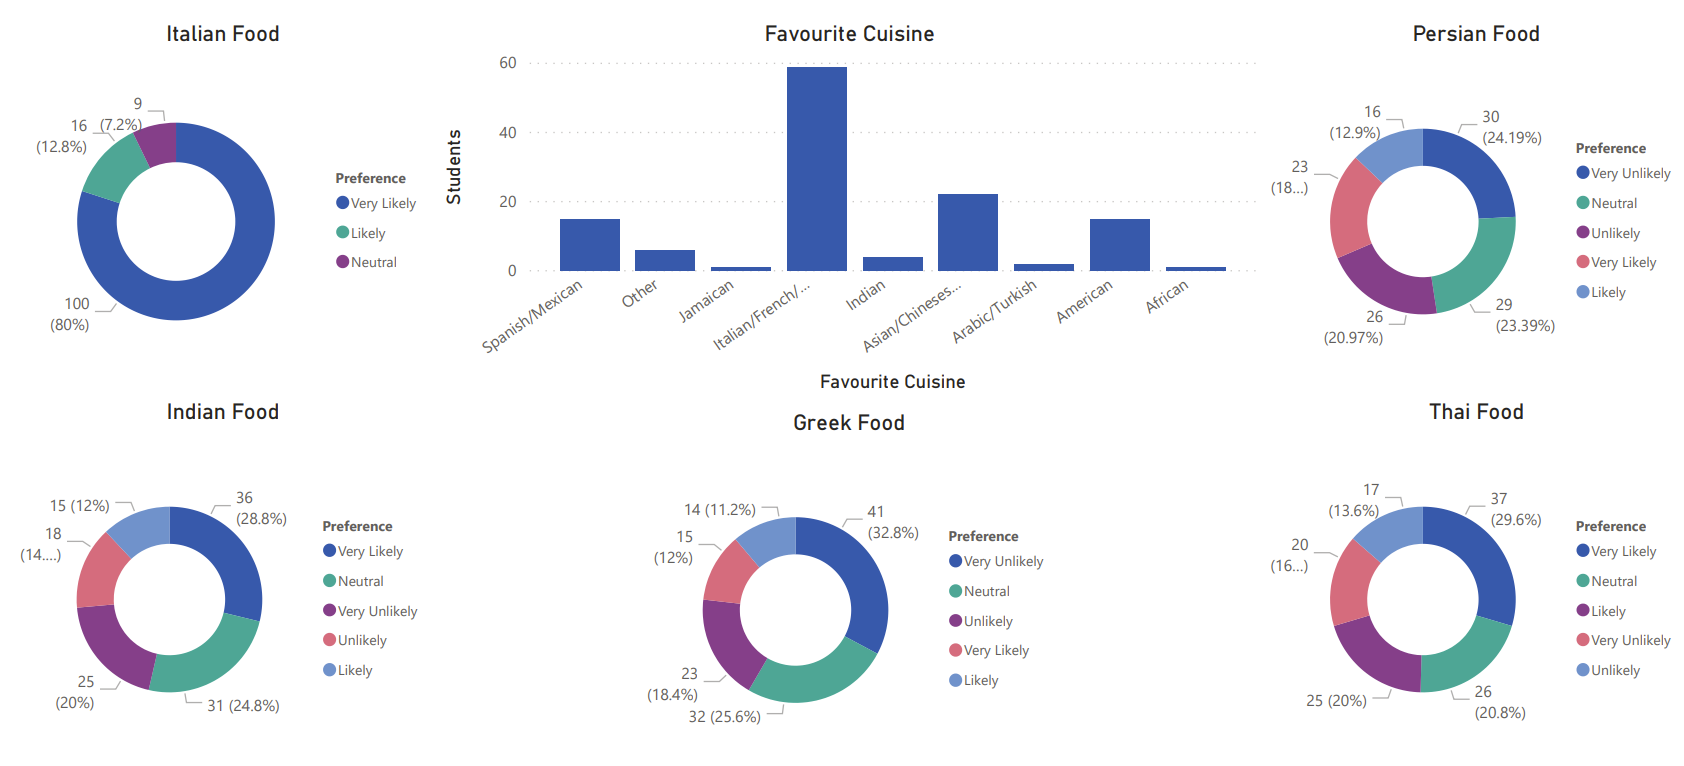

Layout of this report page (visuals, bound fields, positions):
{"tool":"powerbi","page":{"name":"Cuisine","canvas":[1280,720],"ordinal":0},"visuals":[{"type":"donutChart","title":"Italian Food","fields":{"Category":["food_coded_updated.italian_food"],"Y":["CountNonNull(food_coded_updated.italian_food)"]},"box":[0,117,325,288],"z":0},{"type":"donutChart","title":"Indian Food","fields":{"Y":["CountNonNull(food_coded_updated.indian_food)"],"Category":["food_coded_updated.indian_food"]},"box":[0,405,325,288],"z":1000},{"type":"donutChart","title":"Persian Food","fields":{"Y":["CountNonNull(food_coded_updated.persian_food)"],"Category":["food_coded_updated.persian_food"]},"box":[955,117,325,288],"z":2000},{"type":"donutChart","title":"Thai Food","fields":{"Y":["CountNonNull(food_coded_updated.thai_food)"],"Category":["food_coded_updated.thai_food"]},"box":[955,405,325,288],"z":3000},{"type":"columnChart","title":"Favourite Cuisine","fields":{"Category":["food_coded_updated.fav_cuisine_coded"],"Y":["CountNonNull(food_coded_updated.fav_cuisine_coded)"]},"box":[325,117,630,288],"z":4000},{"type":"donutChart","title":"Greek Food","fields":{"Category":["food_coded_updated.greek_food"],"Y":["CountNonNull(food_coded_updated.greek_food)"]},"box":[477,413,325,288],"z":5000}]}

Visuals, with their boxes on the page's 1280x720 design canvas (x1, y1, x2, y2). These are canvas units, not pixel positions in the 1684x766 screenshot, which may show the page scaled, cropped or inside an application window:
"Italian Food" donutChart: <bbox>0, 117, 325, 405</bbox>
"Indian Food" donutChart: <bbox>0, 405, 325, 693</bbox>
"Persian Food" donutChart: <bbox>955, 117, 1280, 405</bbox>
"Thai Food" donutChart: <bbox>955, 405, 1280, 693</bbox>
"Favourite Cuisine" columnChart: <bbox>325, 117, 955, 405</bbox>
"Greek Food" donutChart: <bbox>477, 413, 802, 701</bbox>
